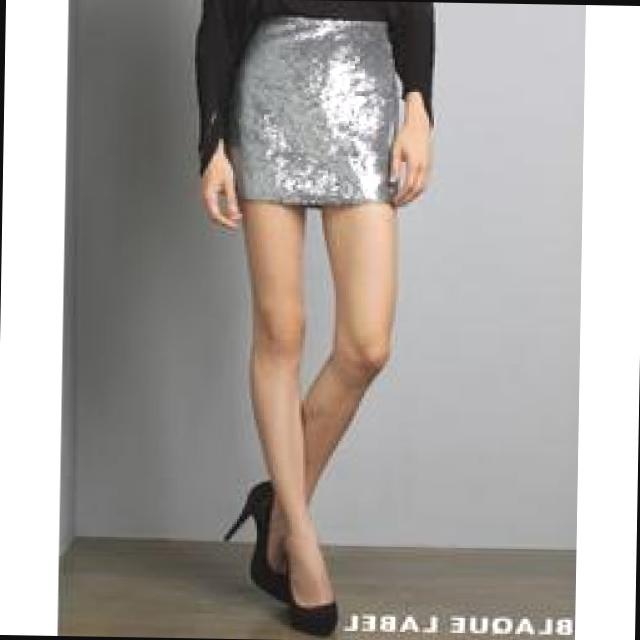skirt: (232, 15, 403, 205)
